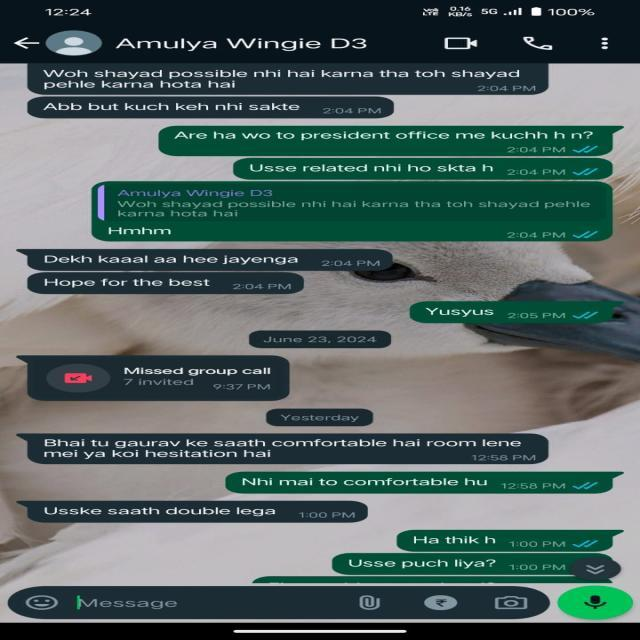scam: (36, 434, 548, 462), (39, 66, 532, 92), (38, 250, 320, 274), (39, 98, 320, 119), (39, 499, 283, 522), (41, 275, 222, 294)
